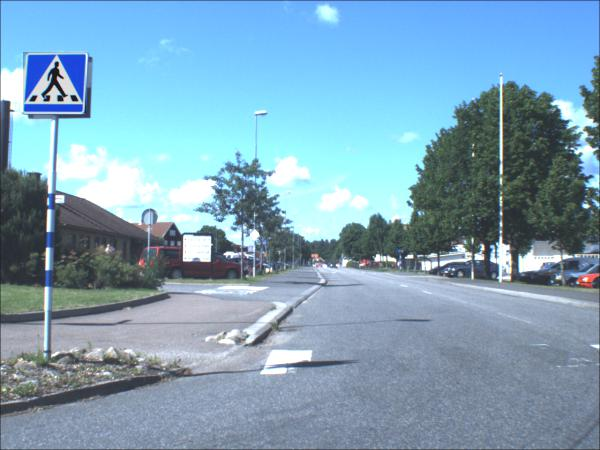PEDESTRIAN_CROSSING: (23, 54, 87, 116), (248, 246, 255, 254), (397, 248, 403, 255)
PRIORITY_ROAD: (250, 231, 260, 243)
